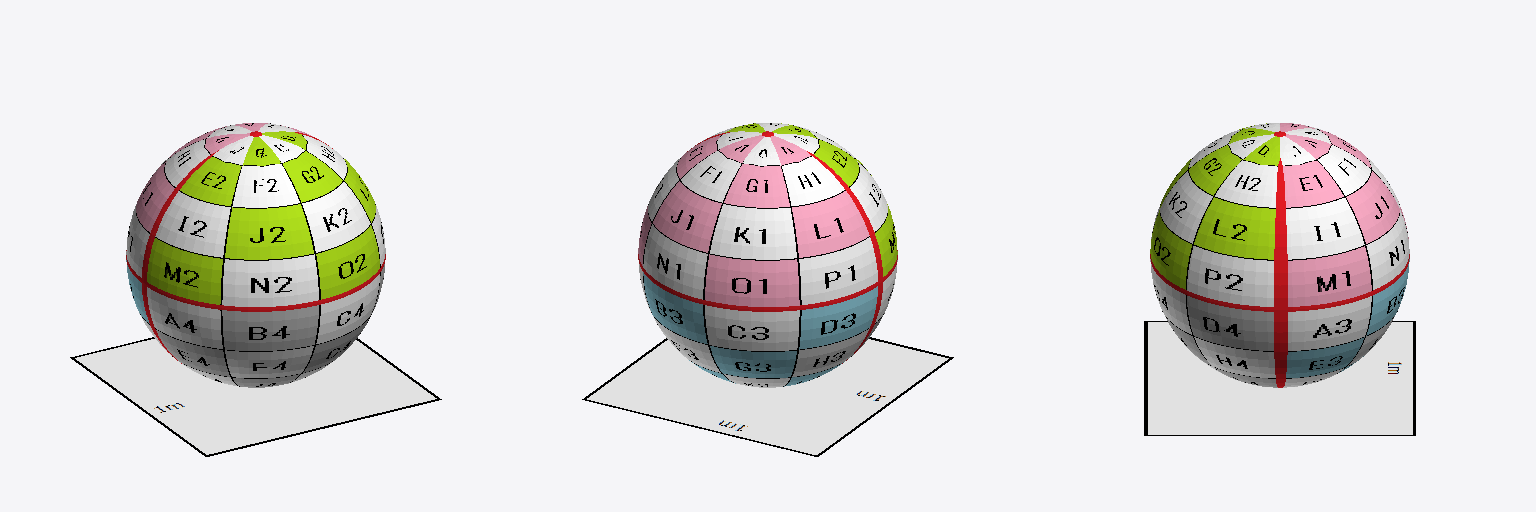
3 views of the same model, side by side, from view 1: azimuth 30°, elevation 25°; view 2: azimuth 150°, elevation 25°; view 3: azimuth 270°, elevation 25° (orthographic).
Parts seen in each view (by area): view 1: Sphere, Plane; view 2: Sphere, Plane; view 3: Sphere, Plane.
Boxes of the visible parts, box(x1,y1,x2,y2) form: Sphere: box(126, 123, 385, 387); Plane: box(70, 337, 441, 456); Sphere: box(638, 123, 897, 387); Plane: box(582, 337, 953, 456); Sphere: box(1150, 123, 1409, 387); Plane: box(1144, 321, 1415, 435).
Size of the model in its own units: 100 by 99.37 by 100.
2 materials, 2 textured.